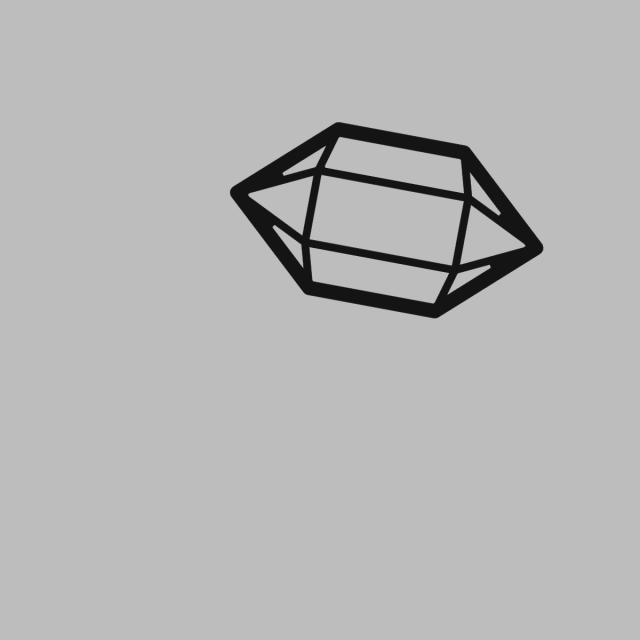crystal: (222, 116, 551, 328)
